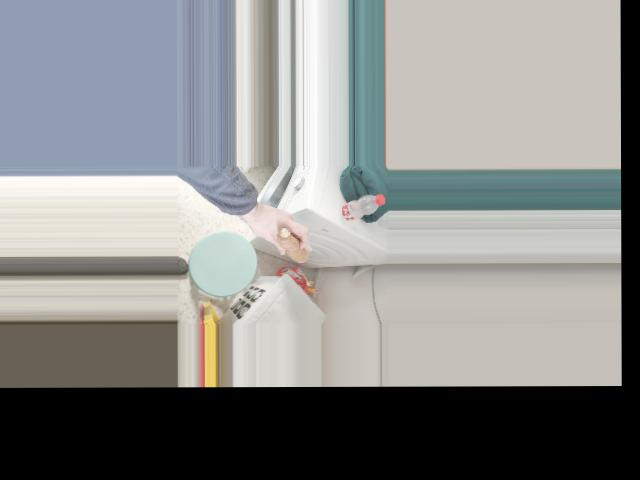sweet_potato: (272, 223, 312, 261)
